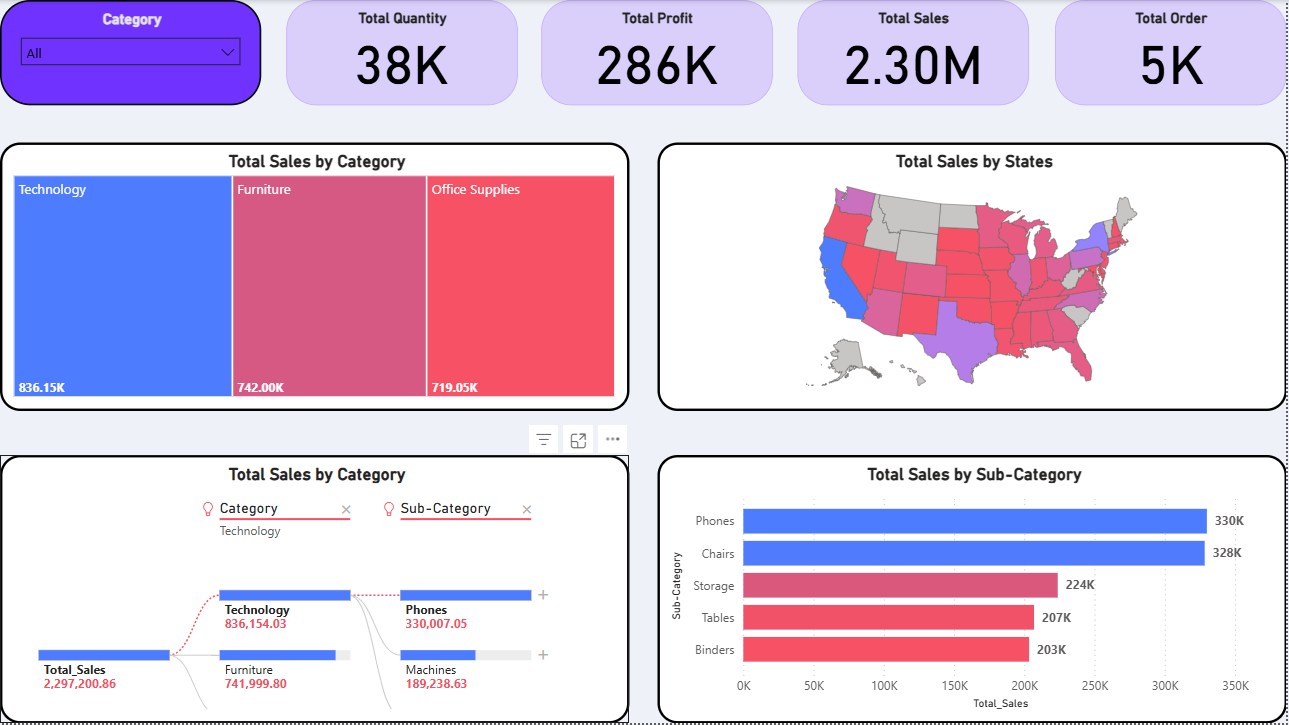

This screenshot's page, from the dashboard's own definition file:
{"tool":"powerbi","page":{"name":"Page 3","canvas":[1280,720],"ordinal":2},"visuals":[{"type":"cardVisual","title":"Total Order","fields":{"Data":["DAXmeasure.Total_Order"]},"box":[1050,0,230,105],"z":0},{"type":"cardVisual","title":"Total Profit","fields":{"Data":["DAXmeasure.Total_Profit"]},"box":[539.2,0,230,105],"z":1000},{"type":"cardVisual","title":"Total Quantity","fields":{"Data":["DAXmeasure.Total_Quantity"]},"box":[284.6,0,230,105],"z":2000},{"type":"cardVisual","title":"Total Sales","fields":{"Data":["DAXmeasure.Total_Sales"]},"box":[793.8,0,230,105],"z":3000},{"type":"slicer","title":"Category","fields":{"Values":["ProductDim.Category"]},"box":[0,0,260,105],"z":4000},{"type":"treemap","title":"Total Sales by Category","fields":{"Group":["ProductDim.Category Hierarchy.Category","ProductDim.Category Hierarchy.Sub-Category","ProductDim.Category Hierarchy.Product Name"],"Values":["DAXmeasure.Total_Sales"]},"box":[0,141.2,626.2,267.5],"z":5000},{"type":"shapeMap","title":"Total Sales by States","fields":{"Category":["CustomerDim.State"],"Value":["DAXmeasure.Total_Sales"]},"box":[653.8,141.2,626.2,267.5],"z":6000},{"type":"decompositionTreeVisual","title":"Total Sales by Category","fields":{"Analyze":["DAXmeasure.Total_Sales"],"ExplainBy":["ProductDim.Category Hierarchy.Category","ProductDim.Category Hierarchy.Sub-Category","ProductDim.Category Hierarchy.Product Name"]},"box":[0,452.5,626.2,267.5],"z":7000},{"type":"barChart","title":"Total Sales by Sub-Category","fields":{"Category":["ProductDim.Sub-Category"],"Y":["DAXmeasure.Total_Sales"]},"box":[653.8,452.5,626.2,267.5],"z":8000}]}

Visuals, with their boxes in screenshot pixels (x1, y1, x2, y2), scaled from the page's 1280x720 canvas onto the 1289x725 screenshot:
"Total Order" cardVisual: <bbox>1057, 0, 1288, 106</bbox>
"Total Profit" cardVisual: <bbox>543, 0, 775, 106</bbox>
"Total Quantity" cardVisual: <bbox>287, 0, 518, 106</bbox>
"Total Sales" cardVisual: <bbox>799, 0, 1031, 106</bbox>
"Category" slicer: <bbox>0, 0, 262, 106</bbox>
"Total Sales by Category" treemap: <bbox>0, 142, 631, 412</bbox>
"Total Sales by States" shapeMap: <bbox>658, 142, 1288, 412</bbox>
"Total Sales by Category" decompositionTreeVisual: <bbox>0, 456, 631, 724</bbox>
"Total Sales by Sub-Category" barChart: <bbox>658, 456, 1288, 724</bbox>
